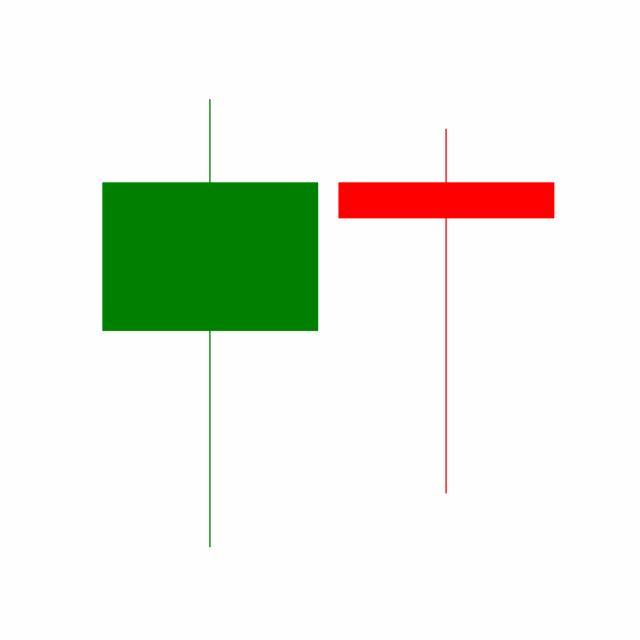Spinning Top: (328, 125, 566, 499)
